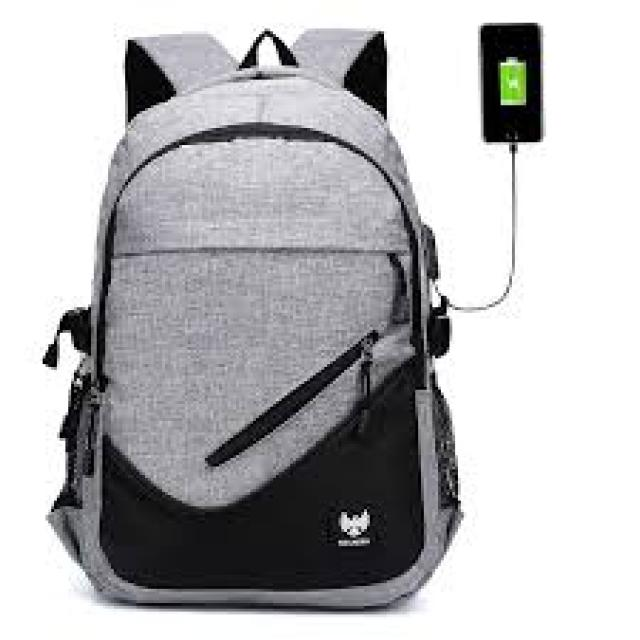backpack: (41, 27, 467, 610)
